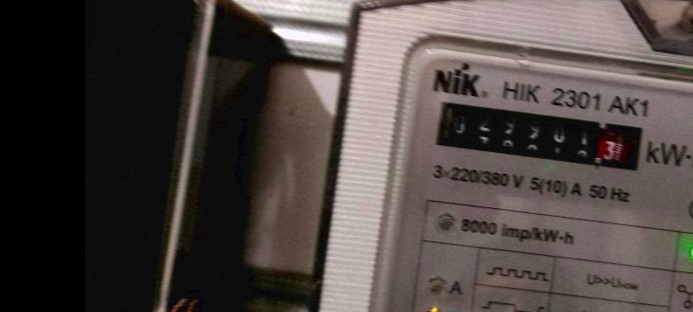0: (551, 117, 568, 144), (451, 111, 469, 133)
1: (576, 121, 592, 146)
2: (476, 111, 494, 132)
3: (602, 136, 617, 159)
9: (527, 116, 543, 139), (502, 112, 517, 136)
screen: (422, 87, 655, 181)
